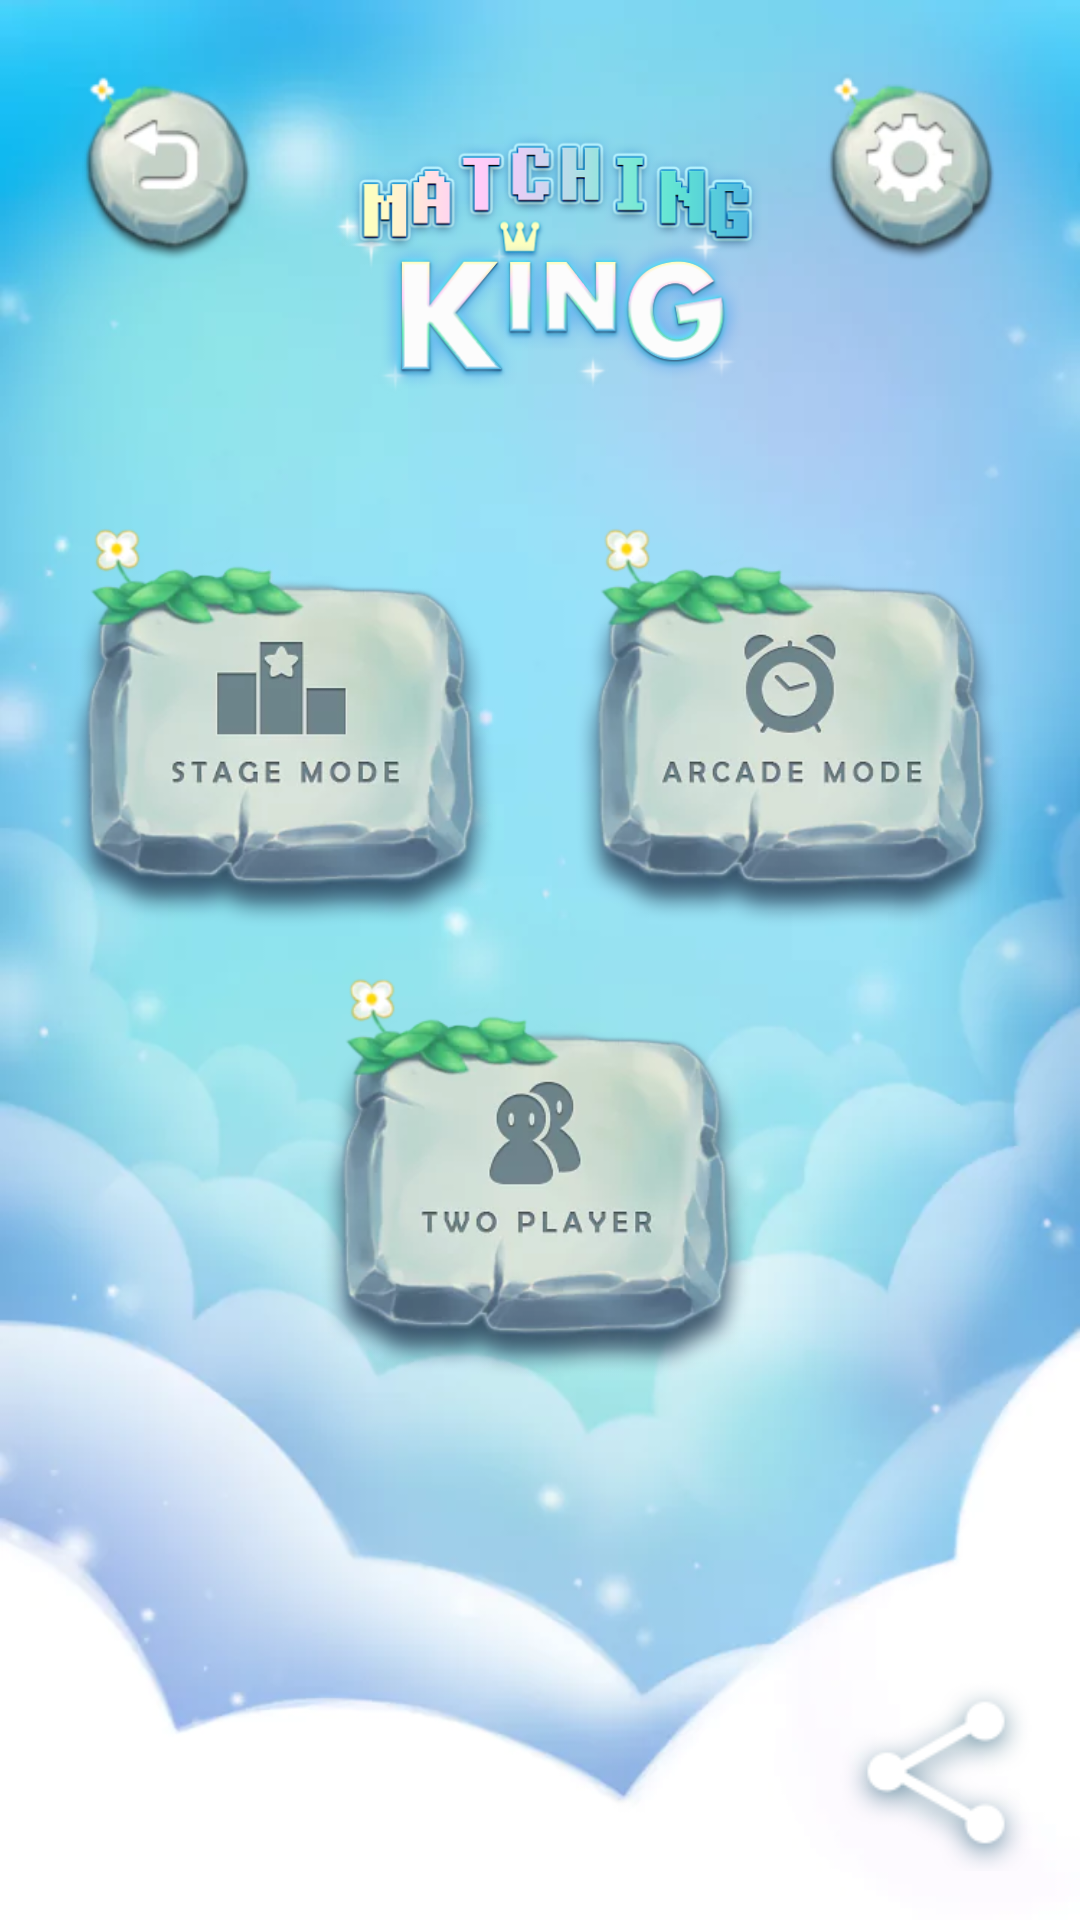

Icons on this 1080×1920 Android screen, each with the point to tap as (x=x, y=y):
share: (x=935, y=1779)
